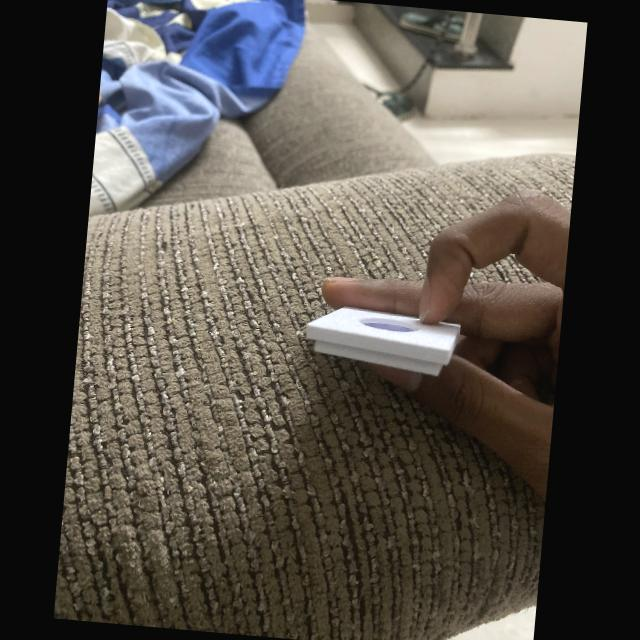RASPBERY PI CAM ENCLOSURE: (304, 303, 462, 378)
